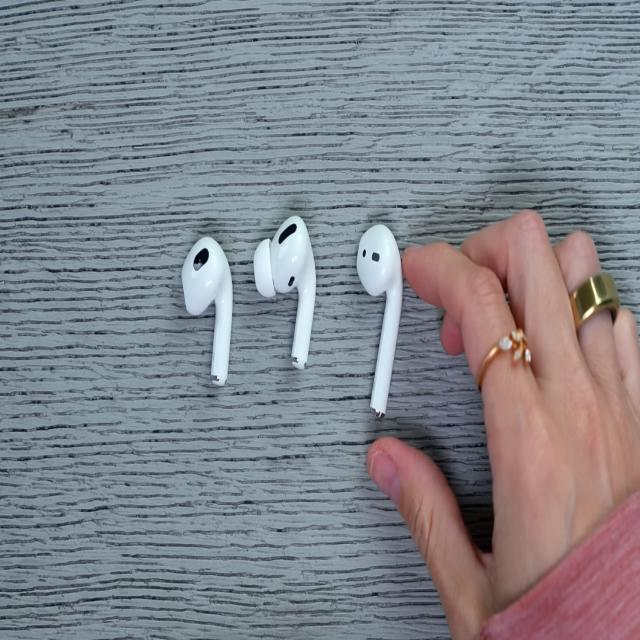airpods: (253, 211, 319, 374), (355, 216, 405, 422), (179, 235, 233, 389)
